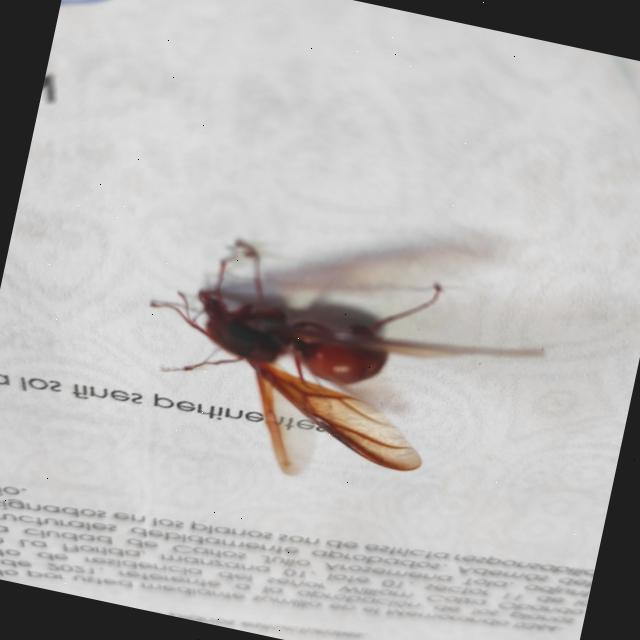Alive-Male-Alate: (121, 224, 554, 522)
